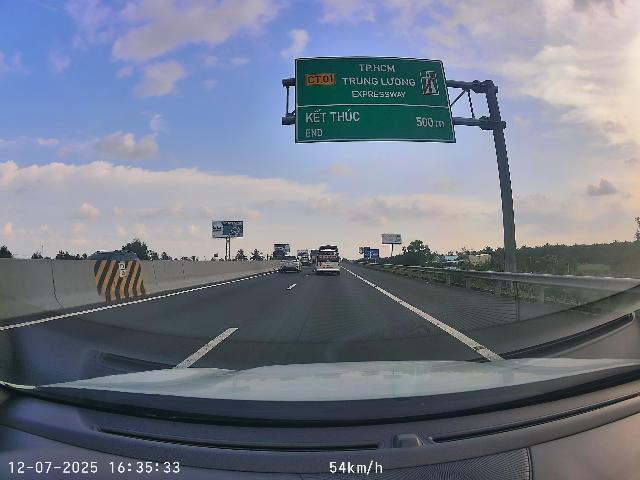438-ket-thuc-duong-cao-toc: (419, 70, 440, 96)
